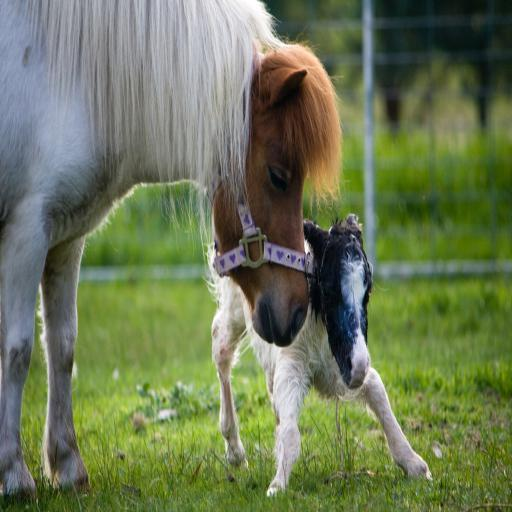horse: (0, 0, 344, 512), (208, 224, 432, 499)
